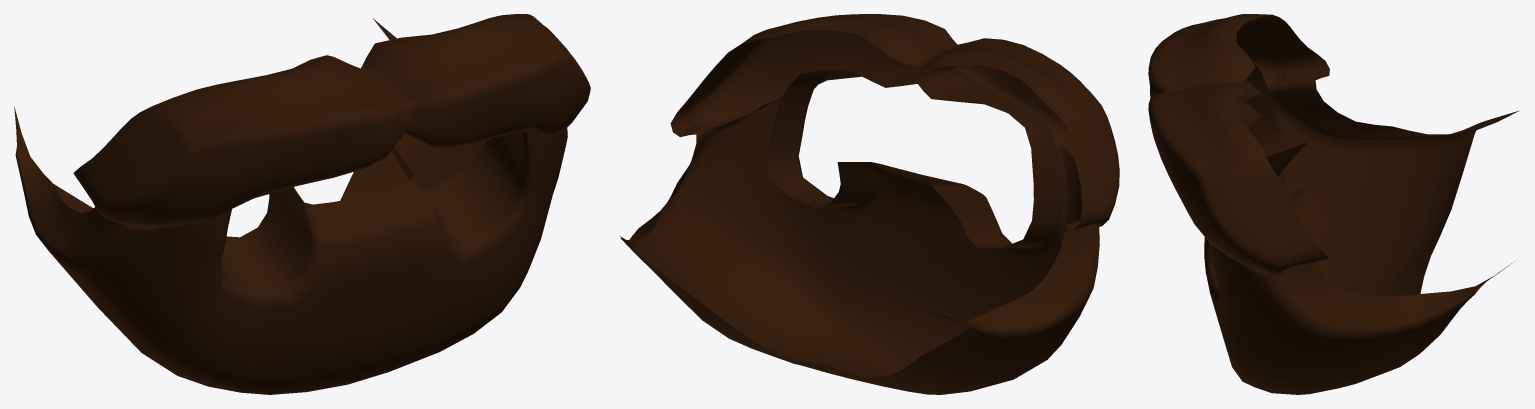
The model's file is facialhair_laotzu.glb.
3 views of the same model, side by side, from view 1: azimuth 30°, elevation 25°; view 2: azimuth 150°, elevation 25°; view 3: azimuth 270°, elevation 25° (orthographic). The views are drawn at different scales.
Visible parts, largest first — view 1: laotzu; view 2: laotzu; view 3: laotzu.
Part boxes in pixels (bbox=[...]): laotzu: bbox=[14, 14, 590, 394]; laotzu: bbox=[620, 14, 1119, 394]; laotzu: bbox=[1148, 14, 1519, 394].
Size of the model in its own units: 0.2226 by 0.1561 by 0.1766.
